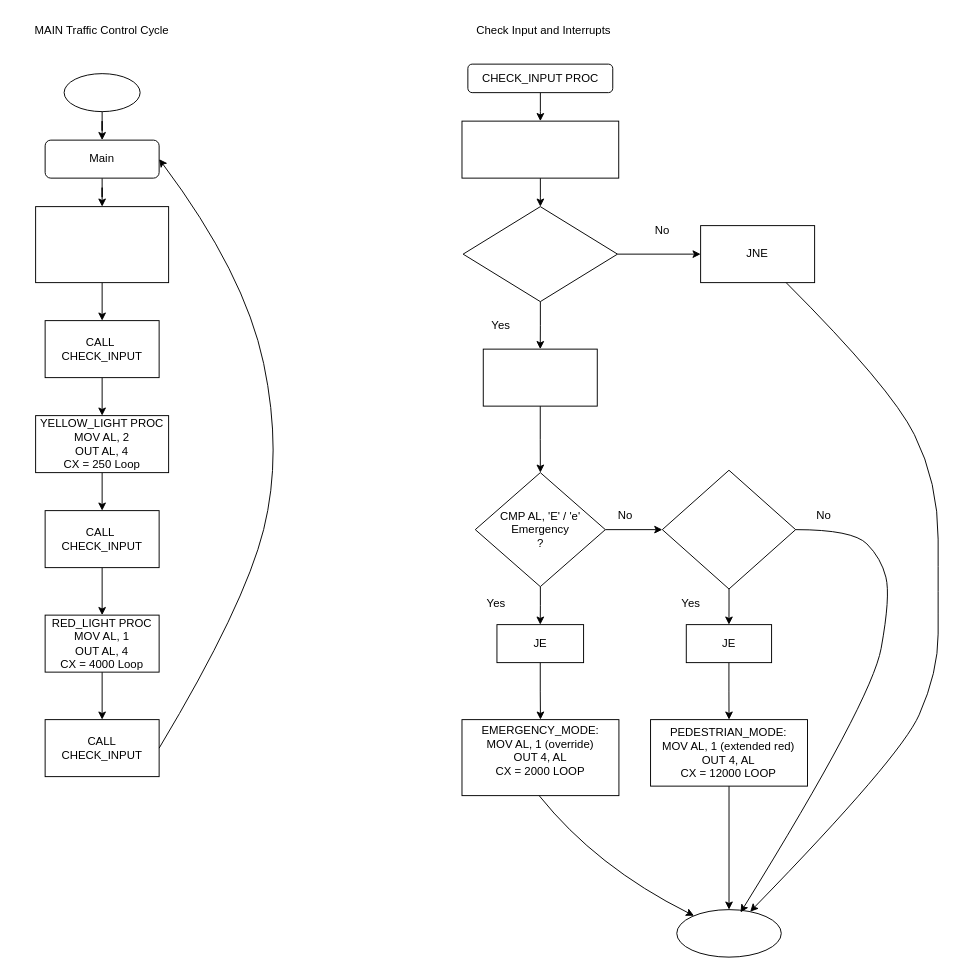
Some shapes in this 955 by 974 pixel diagram are drawn without their labels. The shapes that lost their labels are listed below. From the top down, each one's box as (x1, y1, x2, y2) in pixels, then its label:
(63, 73, 140, 112): Start
(461, 120, 619, 178): CHECK (non-blocking) MOV AH, 08h INT 21h
(35, 206, 169, 283): GREEN_LIGHT PROC MOV AL, 4 OUT 4, AL CX = 500 Loop
(462, 206, 618, 302): CMP AL, OFFh Key_press waiting ?
(482, 348, 597, 406): READ_KEY: MOV AH, 01h INT 21h
(661, 469, 796, 589): CMP AL, 'P' / 'p' Pedestrian ?
(676, 909, 781, 957): NO_KEY: RET
